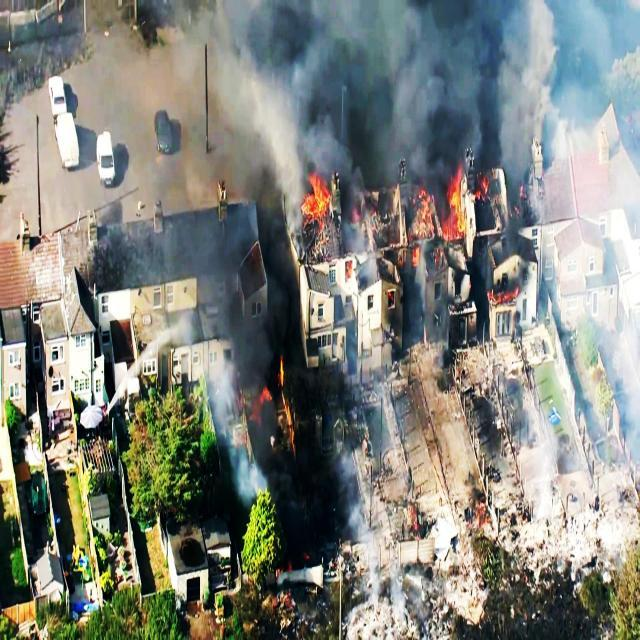Fire: (444, 171, 471, 261), (294, 174, 333, 218)
Smoke: (270, 0, 414, 128), (410, 24, 502, 143)
